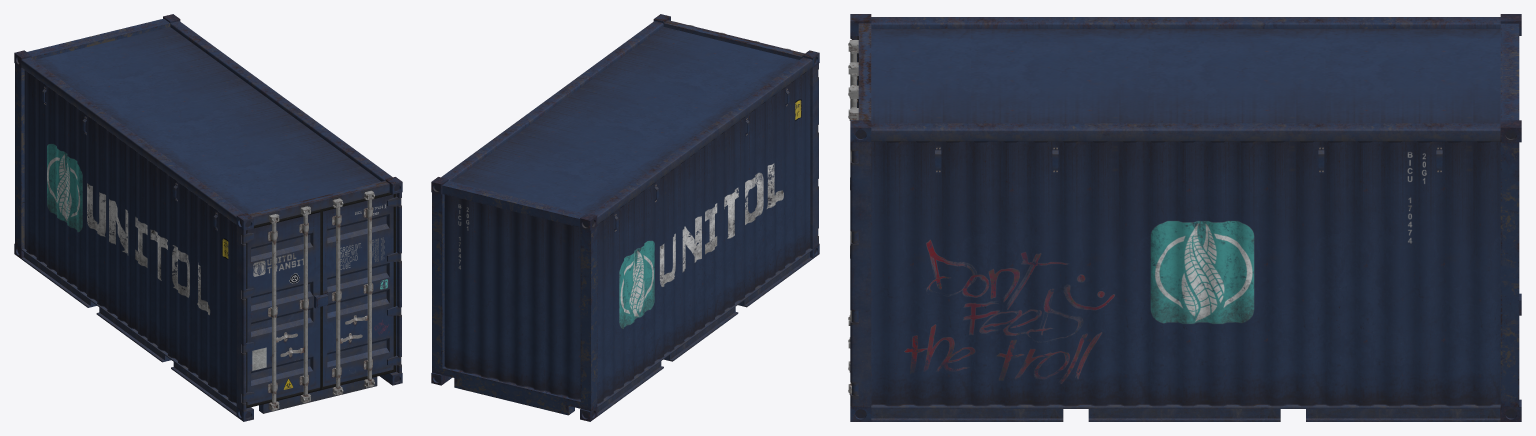
Rendered from shipping_container.glb.
3 views of the same model, side by side, from view 1: azimuth 30°, elevation 25°; view 2: azimuth 150°, elevation 25°; view 3: azimuth 270°, elevation 25° (orthographic). The views are drawn at different scales.
Visible parts, largest first — view 1: Container; view 2: Container; view 3: Container.
Part boxes in pixels (x1,y1,x2,y2): Container: [14, 14, 402, 421]; Container: [431, 14, 819, 421]; Container: [848, 14, 1521, 421].
Bounding box in the file's own units: 2.4 × 2.9 × 6.01.
2 materials, 2 textured.
